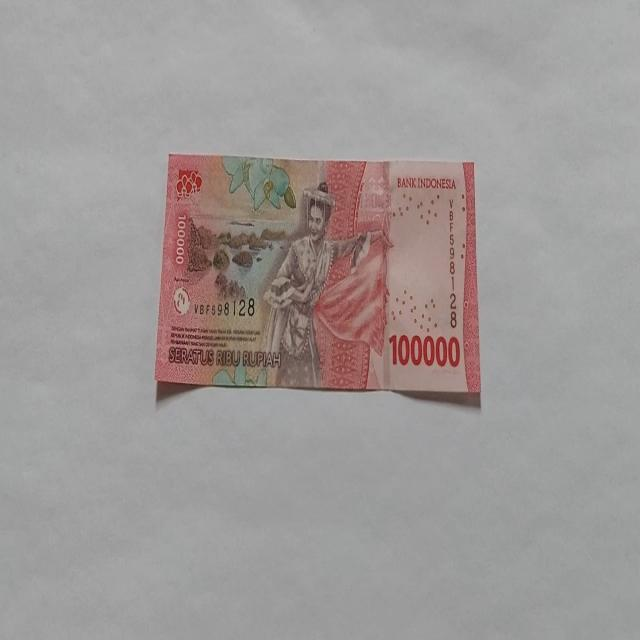seratus ribu rupiah: (154, 152, 481, 404), (260, 180, 372, 388)
